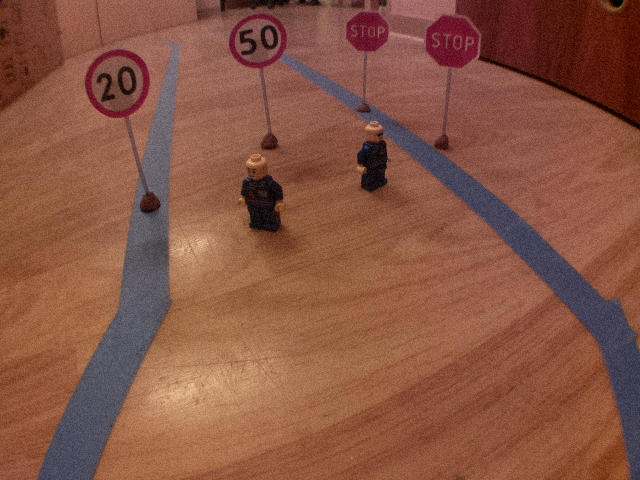LEGO_person: (235, 152, 293, 235), (353, 118, 392, 197)
ogr_20: (81, 47, 153, 122)
ogr_50: (226, 11, 289, 72)
stop: (421, 12, 485, 72), (343, 7, 392, 56)
